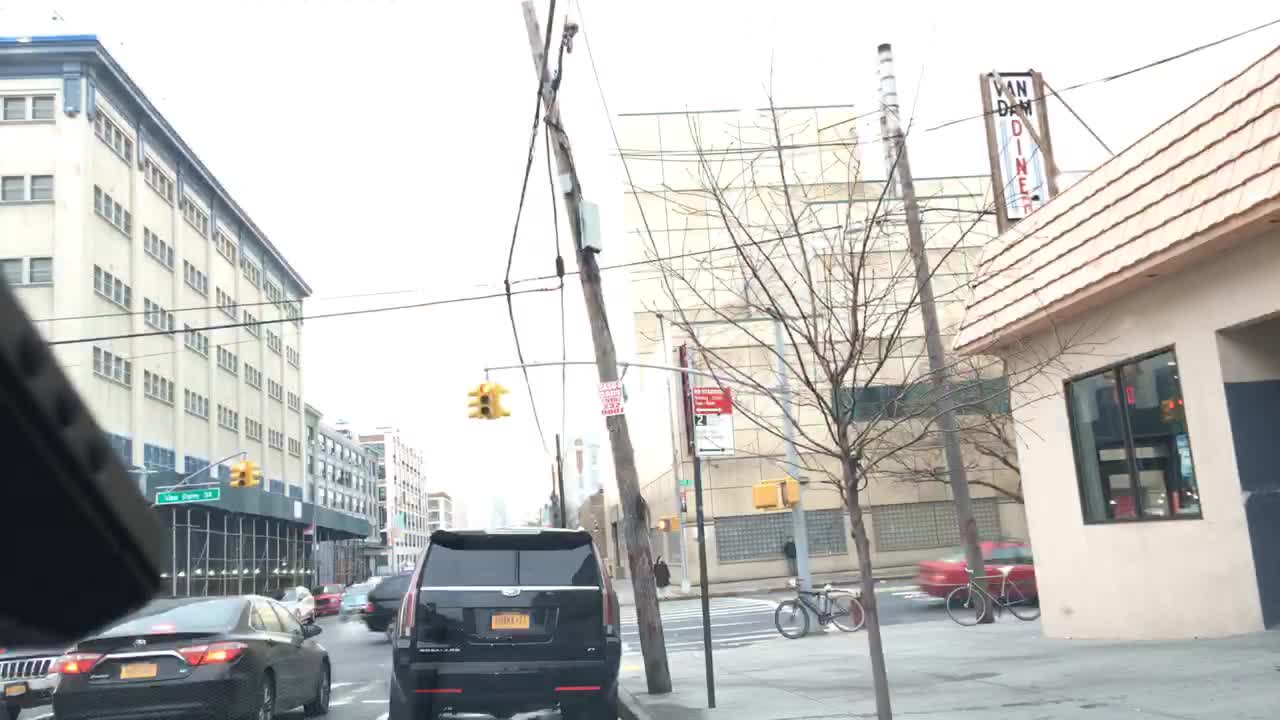bike: (772, 575, 866, 639), (943, 565, 1039, 626)
car: (384, 524, 622, 718), (49, 589, 333, 718), (911, 537, 1039, 604), (1, 642, 79, 718), (362, 570, 412, 635), (260, 584, 316, 624), (334, 579, 378, 621), (314, 580, 348, 615)
person: (650, 553, 672, 602), (779, 534, 797, 580)
traffic light: (750, 483, 778, 510), (778, 478, 801, 509), (478, 383, 494, 416), (497, 383, 512, 416), (657, 514, 681, 532), (466, 387, 476, 420), (228, 462, 237, 488), (251, 461, 260, 486), (238, 464, 247, 487)
traffic sign: (690, 414, 738, 459), (153, 486, 221, 506), (691, 383, 733, 415), (676, 478, 692, 488)
